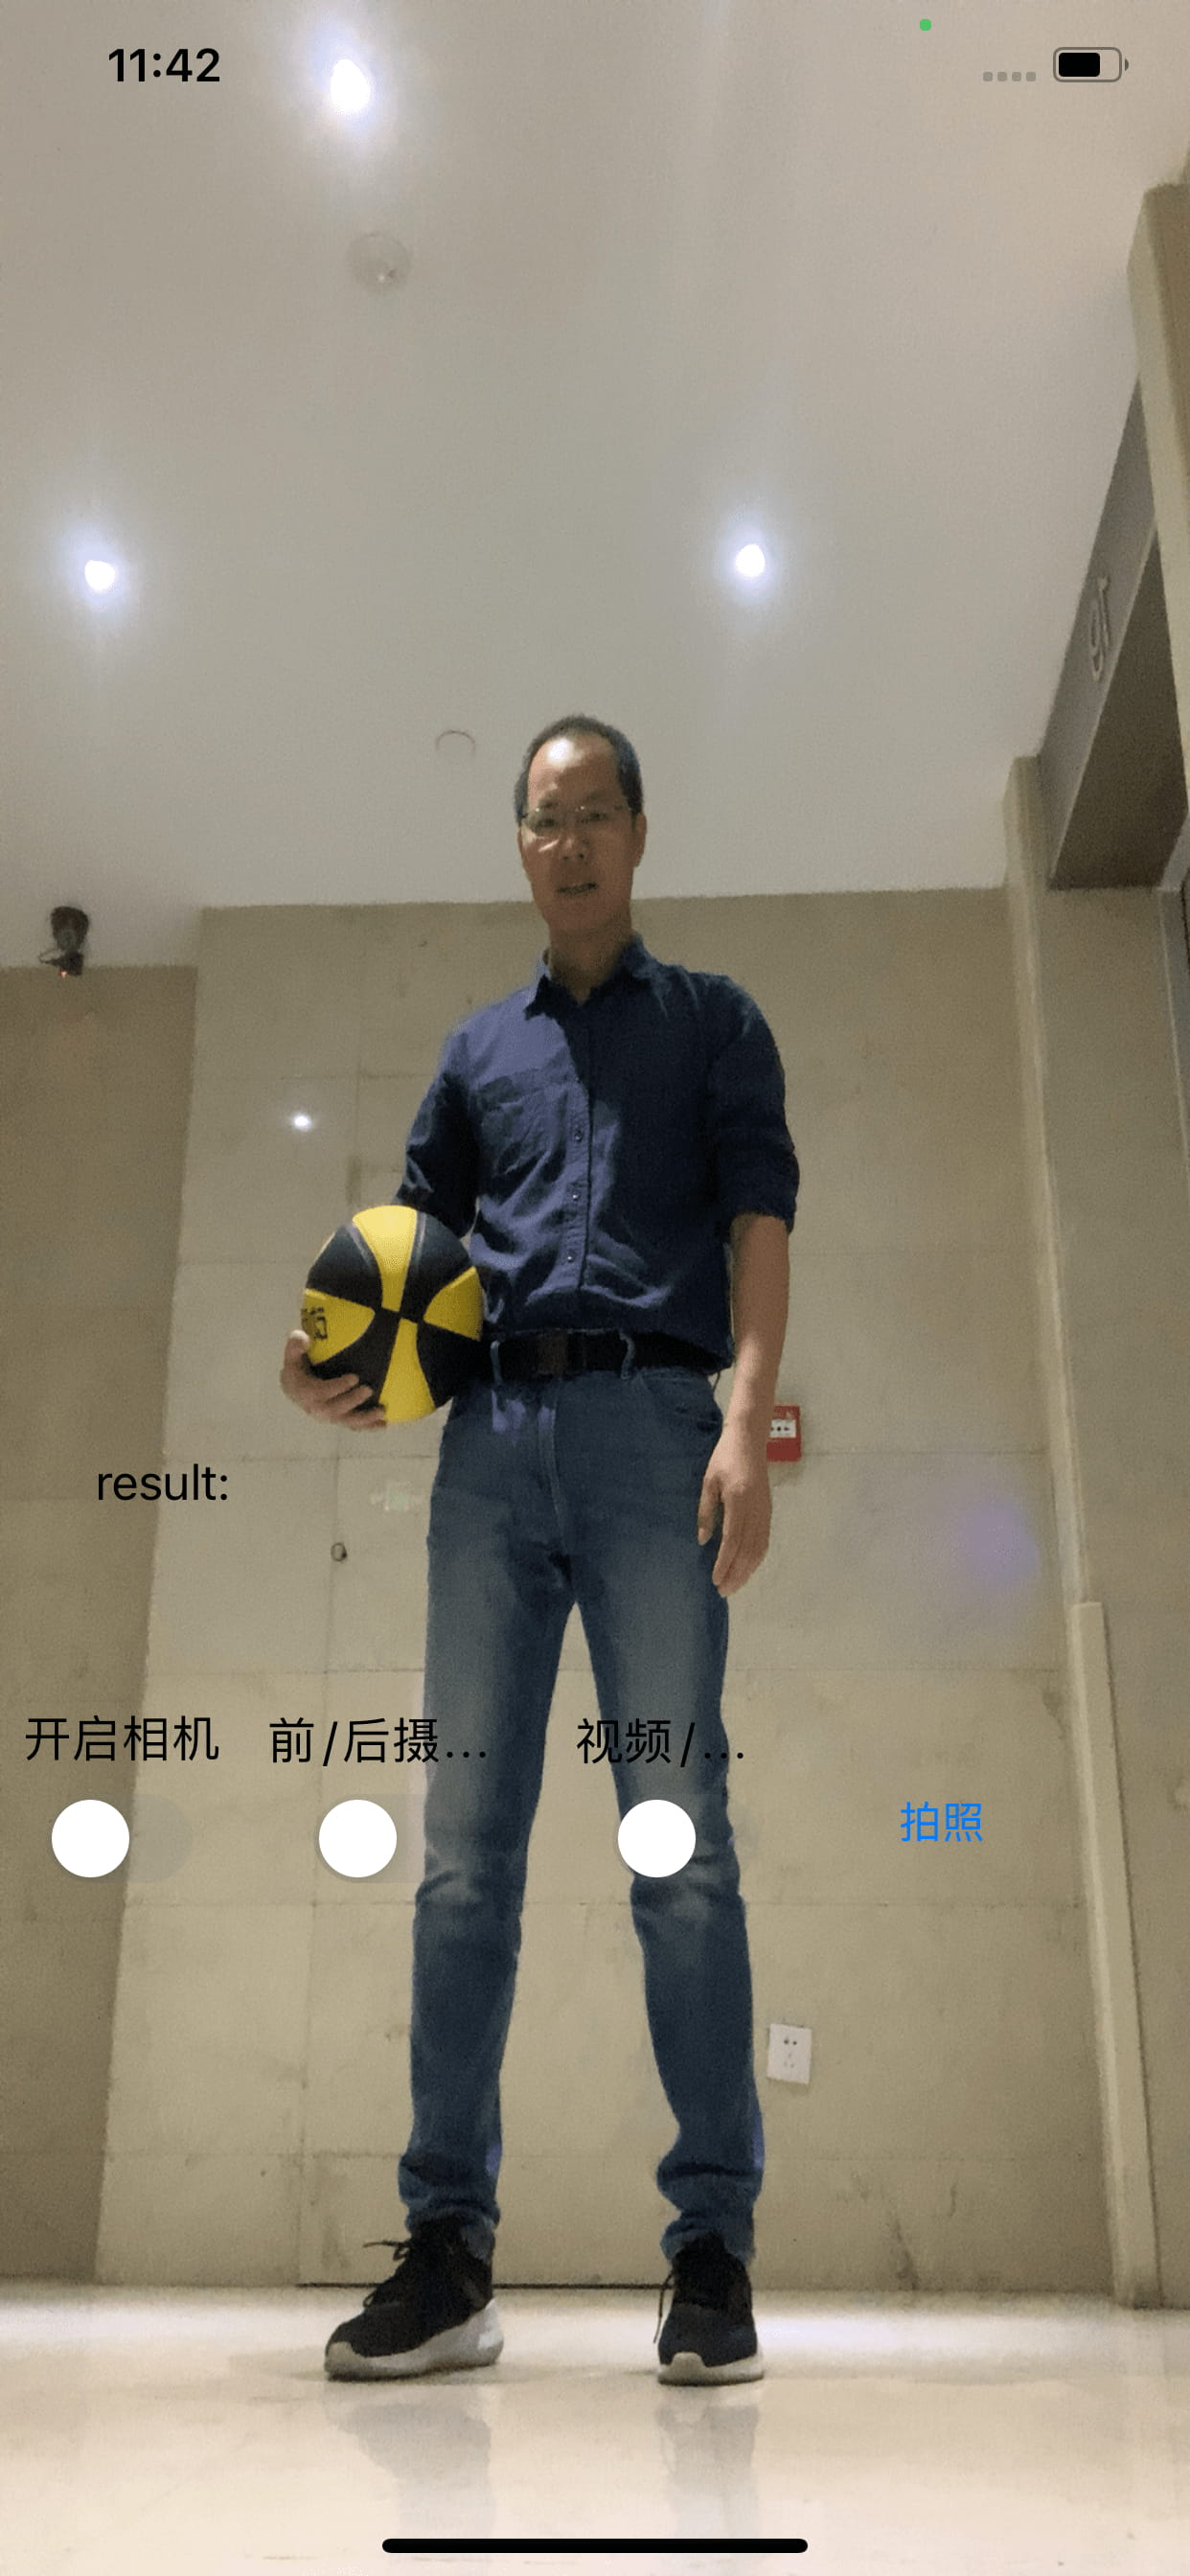ball: (299, 1206, 480, 1424)
